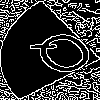Q: (25, 25, 100, 87)
